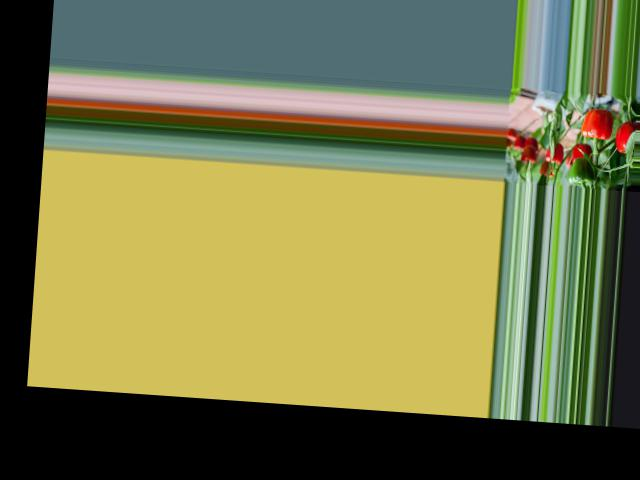bell_pepper: (542, 136, 564, 169)
